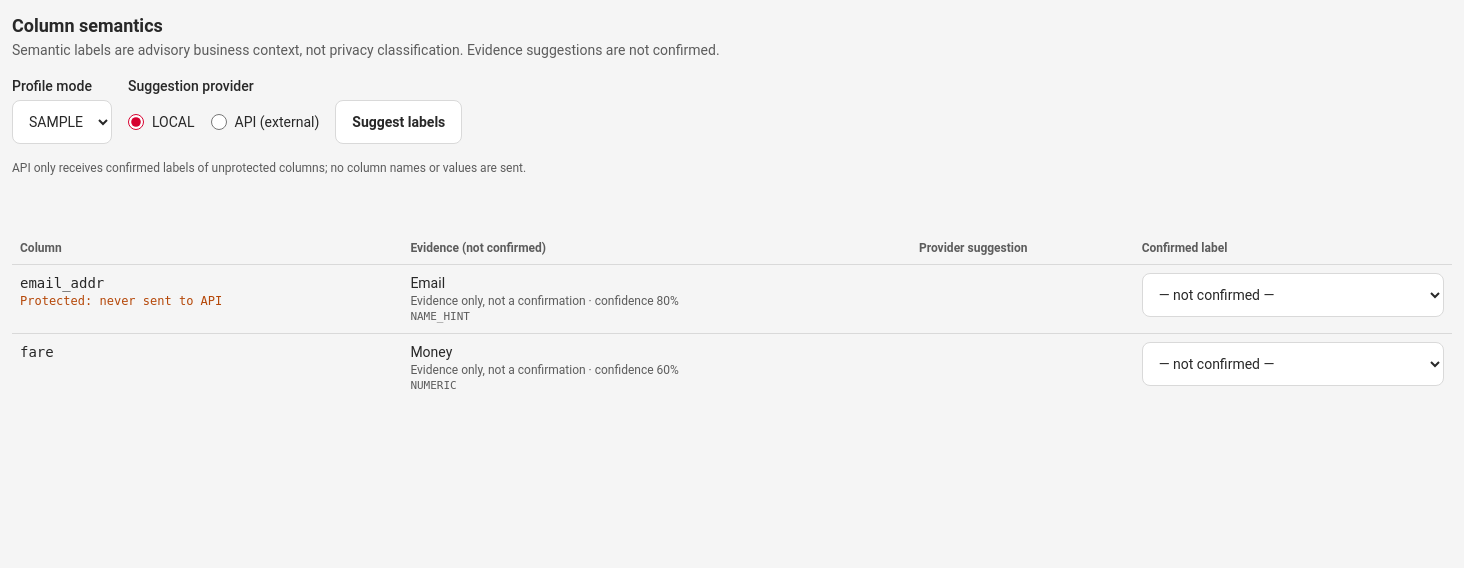
Test: turns the panel read-only when confirm returns 403
Expected: the column heading "fare" is shown, [12, 333, 402, 401]
Select "Boolean" in the dropdown named "Confirmed label: fare" at (1293, 364), box [1142, 342, 1444, 386]
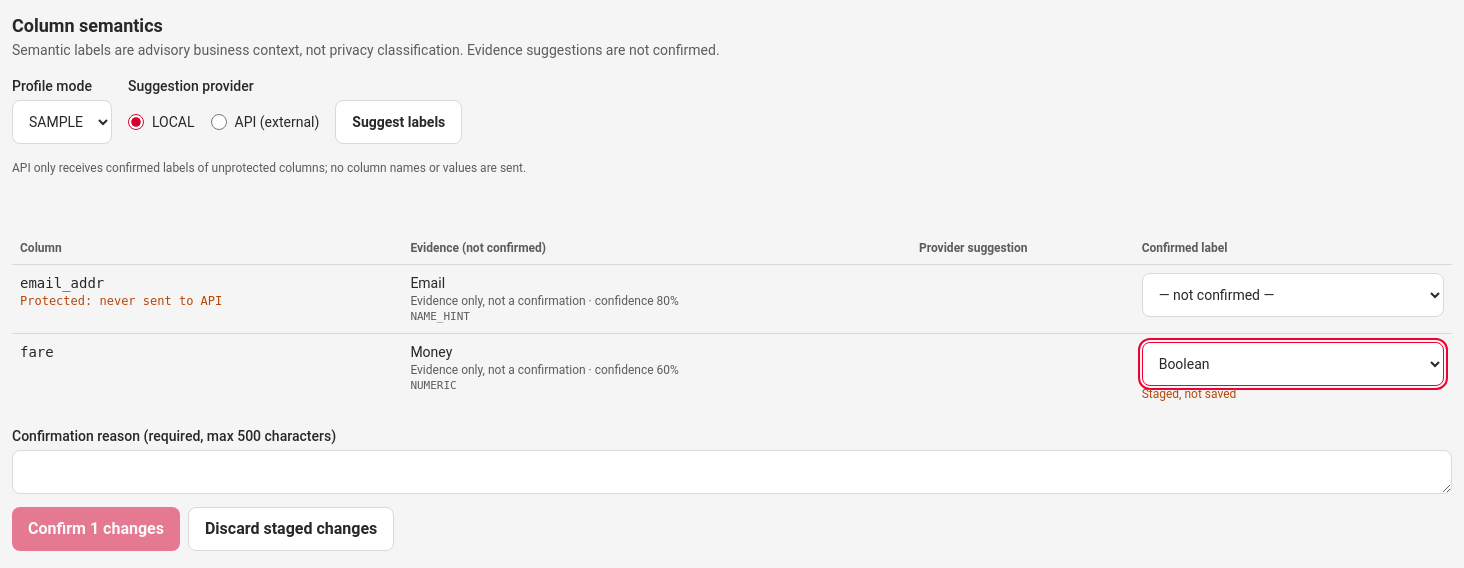
Type "checked" into the text box labelled "Confirmation reason (required, max 500 characters)" at (732, 472), box [12, 450, 1452, 494]
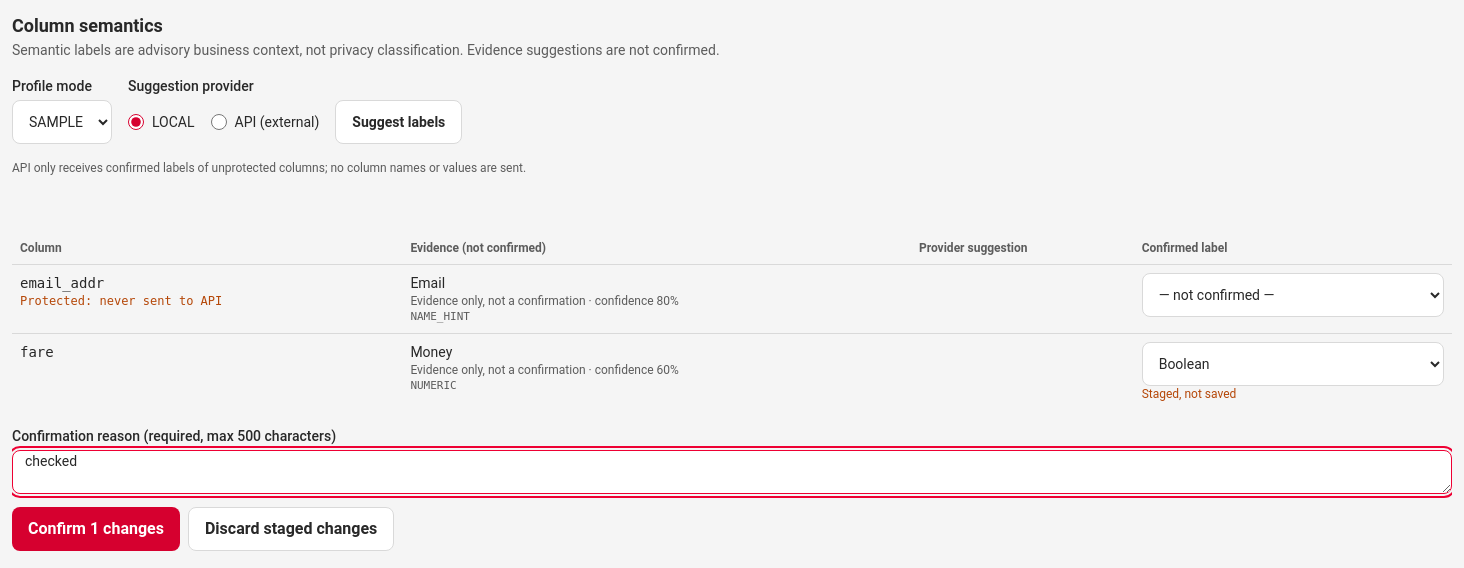
Click the button "Confirm 1 changes" at (96, 529), box [12, 507, 180, 551]
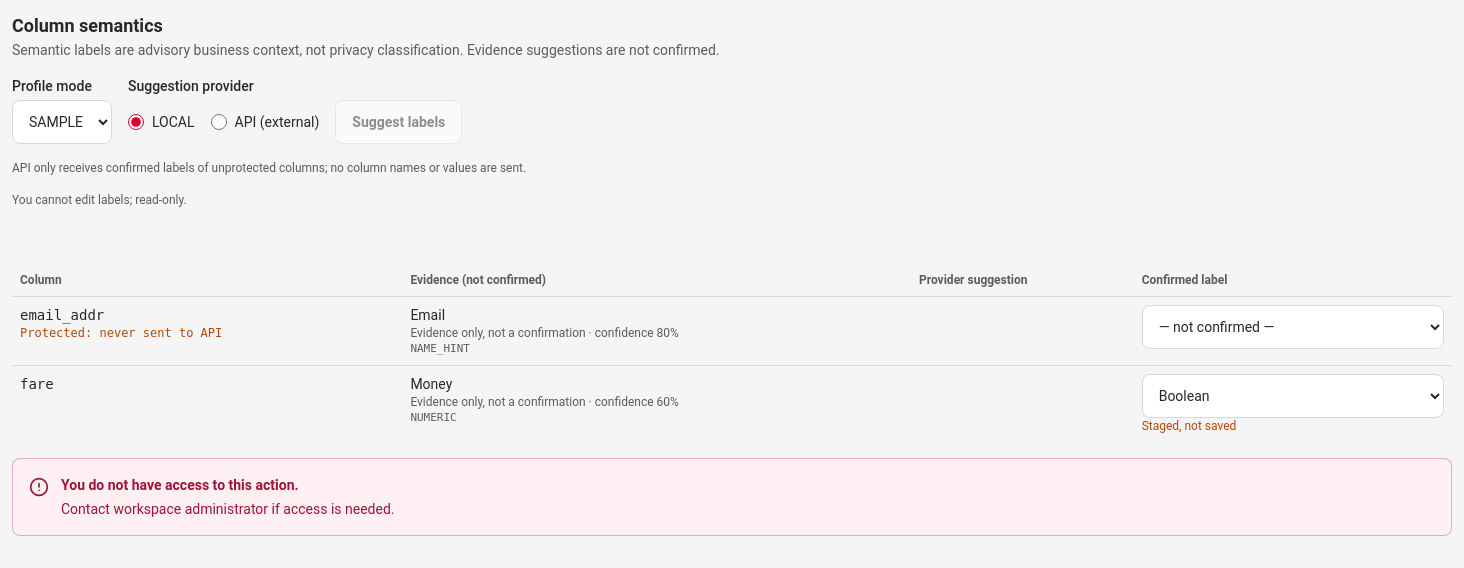
Result: the text "You cannot edit labels; read-only." is shown at [12, 193, 187, 207]
Result: the dropdown named "confirmed label: fare" is disabled at [1142, 374, 1444, 418]
